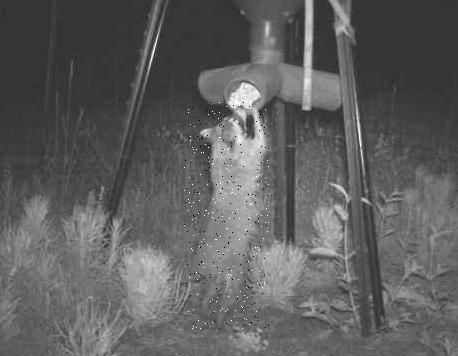Raccoon: (185, 102, 270, 329)
